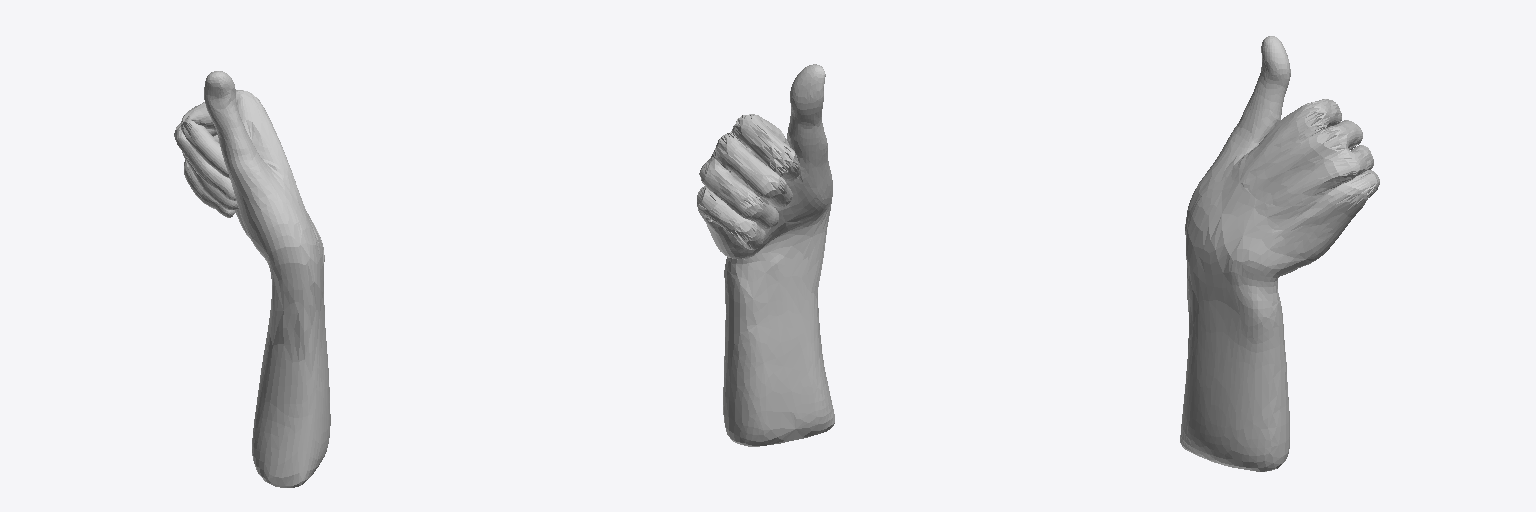
File: main10.obj
The picture shows the model from 3 angles: view 1: azimuth 30°, elevation 25°; view 2: azimuth 150°, elevation 25°; view 3: azimuth 270°, elevation 25°; orthographic projection.
Visible parts, largest first — view 1: ZBrush_defualt_group; view 2: ZBrush_defualt_group; view 3: ZBrush_defualt_group.
Part boxes in pixels (x1,y1,x2,y2): ZBrush_defualt_group: (174, 71, 330, 487); ZBrush_defualt_group: (697, 64, 834, 446); ZBrush_defualt_group: (1180, 36, 1379, 471).
Size of the model in its own units: 2.27 by 8.01 by 3.67.